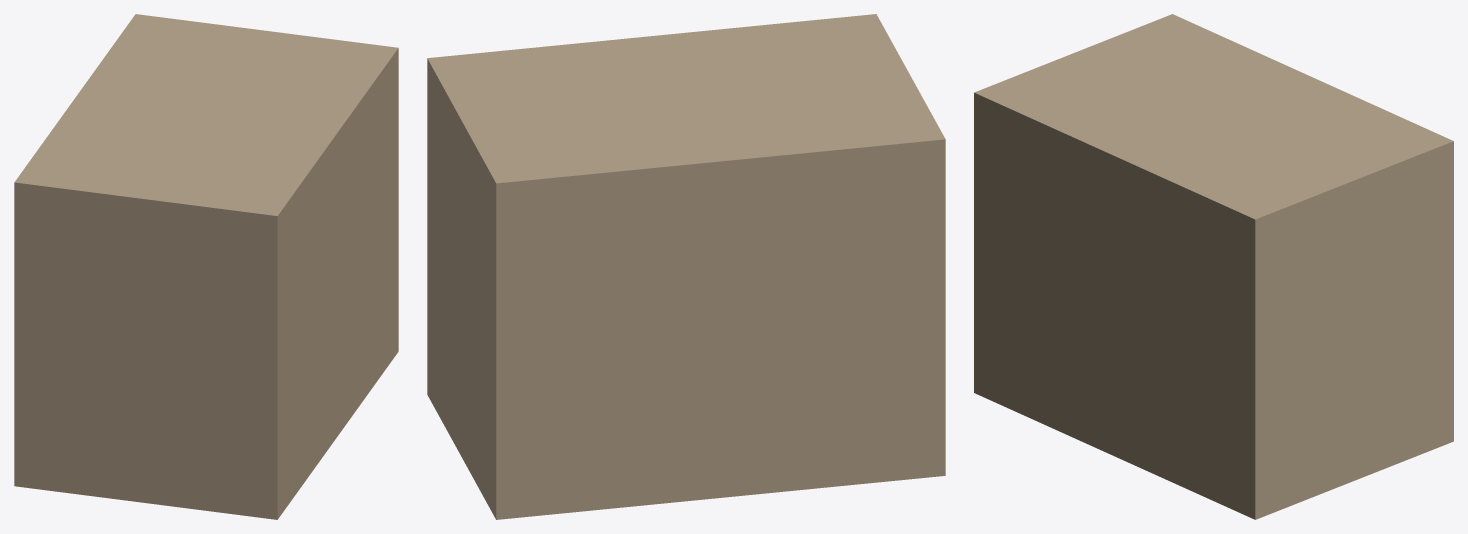
Rendered from bld_101791730.dae.
3 renders of one model, left to right at view 1: azimuth 30°, elevation 25°; view 2: azimuth 150°, elevation 25°; view 3: azimuth 270°, elevation 25°, orthographic. The views are drawn at different scales.
Parts seen in each view (by area): view 1: bld_101791730; view 2: bld_101791730; view 3: bld_101791730.
Boxes of the visible parts, x1=… form: bld_101791730: x1=14, y1=14, x2=398, y2=519; bld_101791730: x1=427, y1=14, x2=945, y2=519; bld_101791730: x1=974, y1=14, x2=1453, y2=519.
Bounding box in the file's own units: 11.74 × 11.58 × 8.
